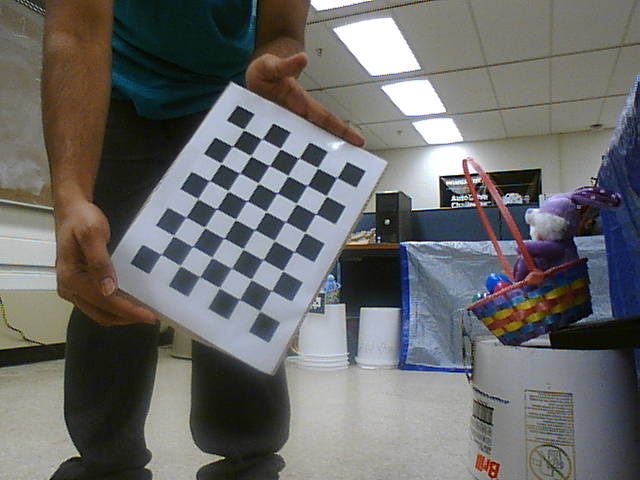bunny: (446, 148, 595, 337)
